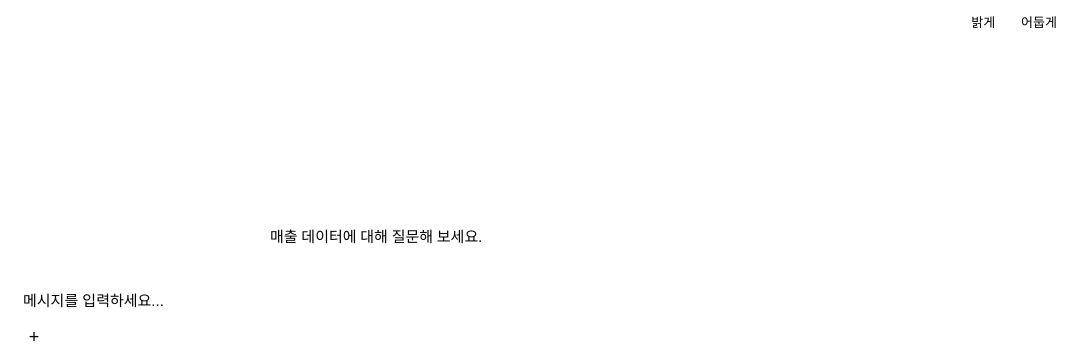
it: Chat - PDF 다운로드 버튼 › 500 응답이면 detail 메시지를 에러로 표시한다
Type "질문" into the field with placeholder "메시지를 입력하세요...". click: coordinates (379, 300)
box: [19,288,739,313]
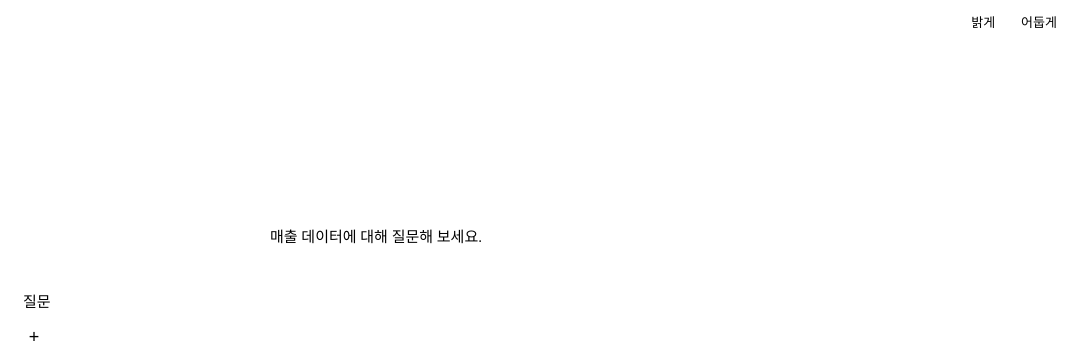
Press Enter in the field with placeholder "메시지를 입력하세요...", box [19,288,739,313]
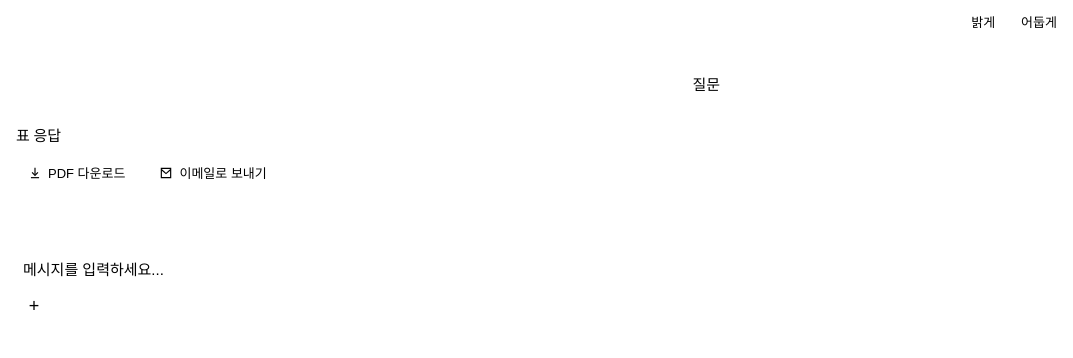
Click the button "PDF 다운로드". click: coordinates (77, 172)
box: [16,158,138,187]
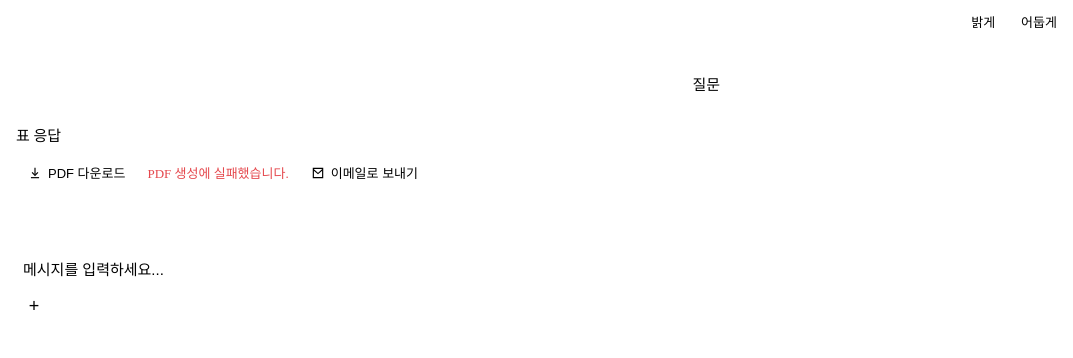
Check: the button "PDF 다운로드" is enabled, box [16,158,138,187]
Check: the text "PDF 생성에 실패했습니다." is shown, box [148,163,289,182]
